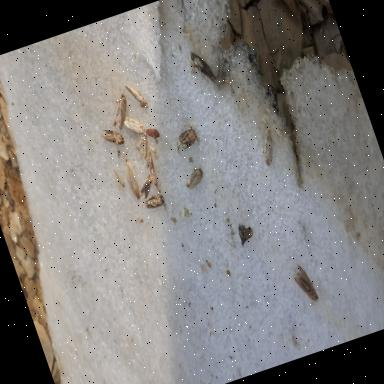pbw: (188, 42, 220, 88), (107, 96, 138, 135), (290, 266, 319, 306), (256, 130, 283, 170), (123, 76, 149, 115), (132, 170, 160, 206), (173, 124, 203, 155), (122, 159, 144, 201), (180, 162, 208, 193), (135, 135, 159, 170), (143, 151, 164, 190), (100, 120, 126, 150), (122, 112, 146, 144), (144, 190, 169, 213)
